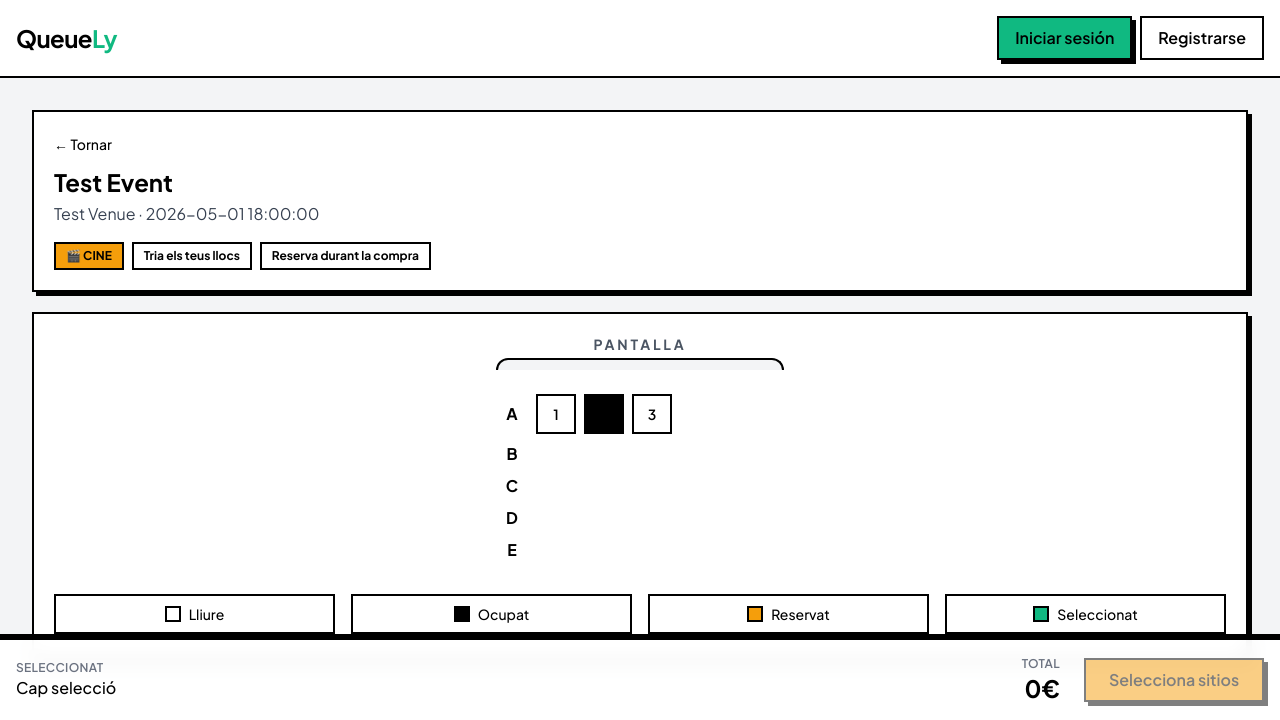
Test: Seat Map Real-time Updates › updates seat to available when released
Click the button "3".
click(652, 414)  # box [632,394,672,434]
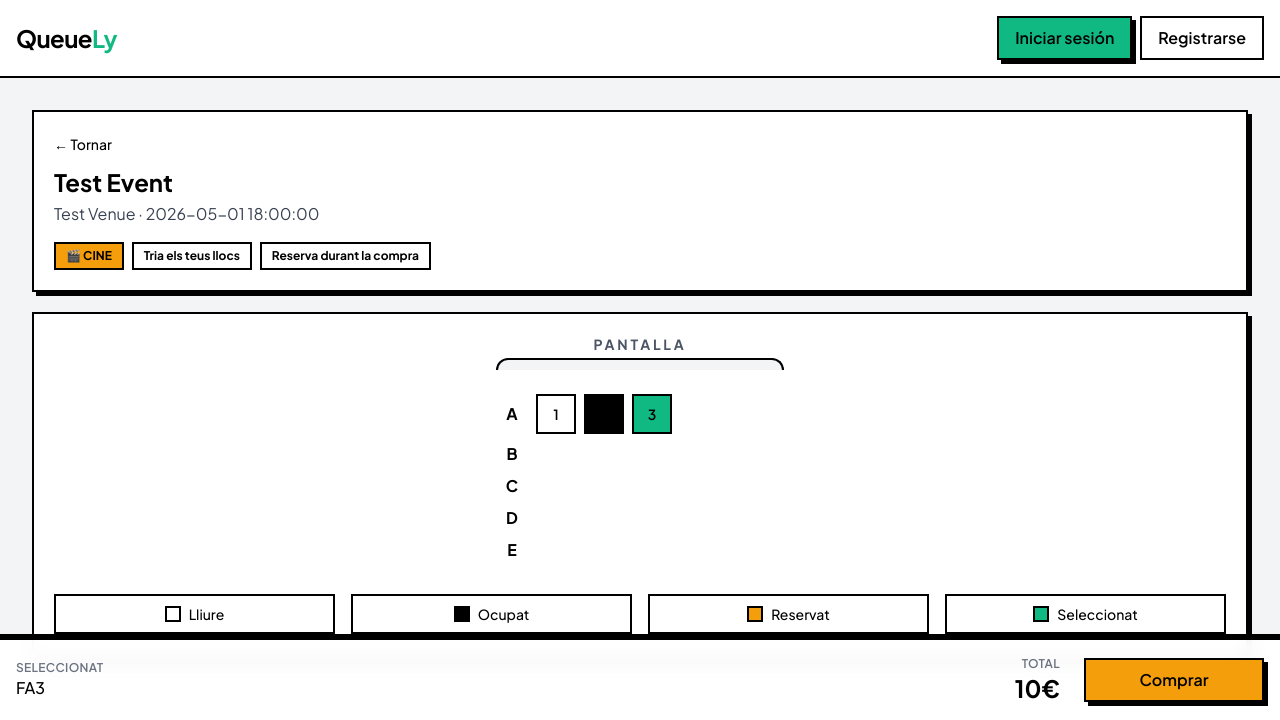
Expected: the text "Comprar" is enabled
Click the button "3".
click(652, 414)  # box [632,394,672,434]
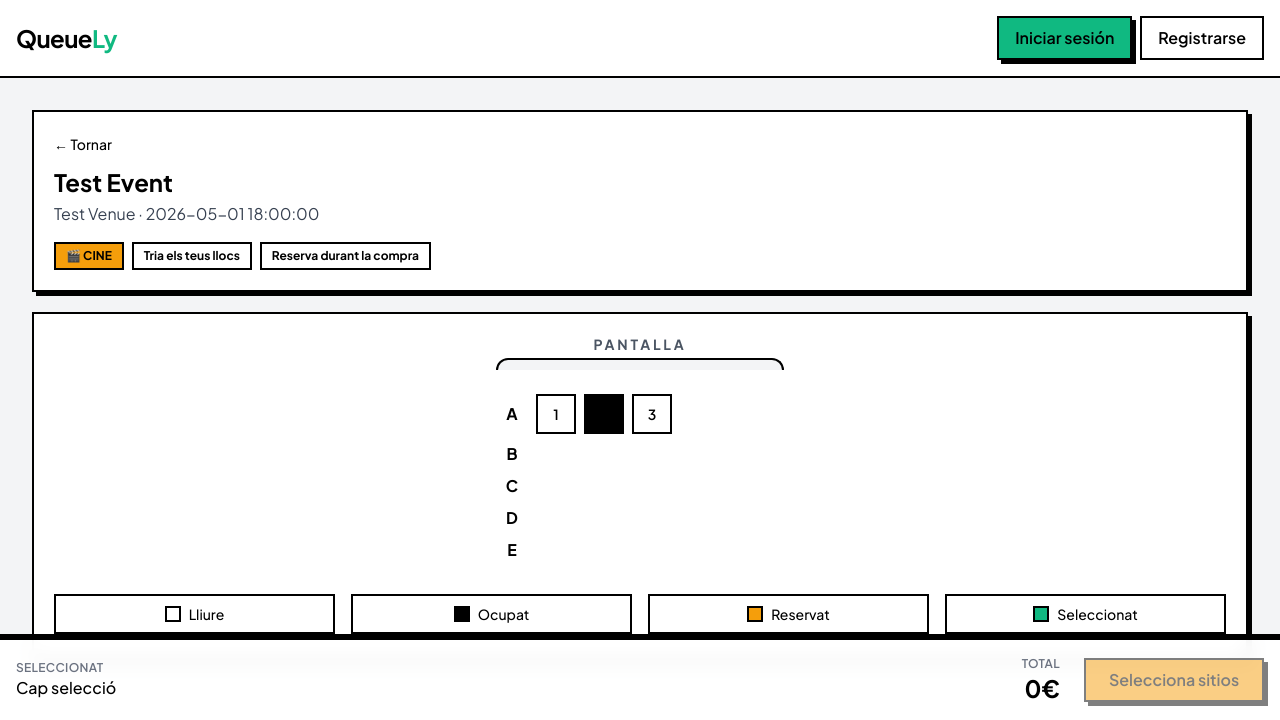
Expected: the button "Selecciona sitios" is disabled, [1084,658,1264,702]
